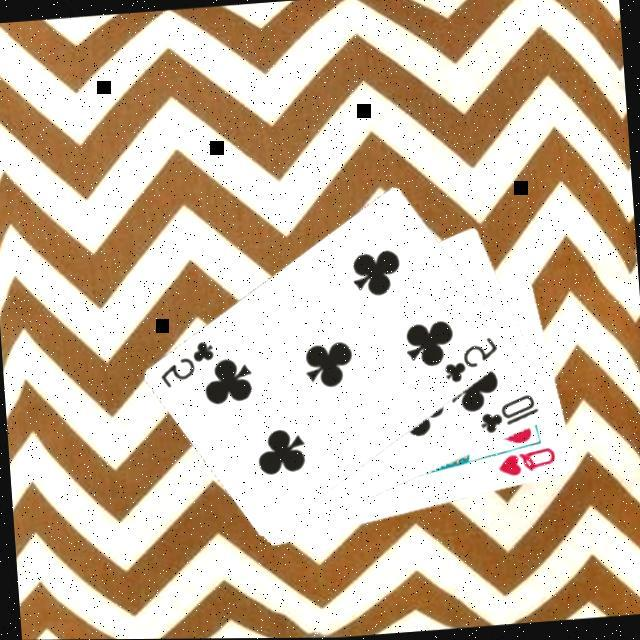10C: (474, 389, 543, 436)
5C: (437, 331, 502, 385), (154, 336, 219, 390)
QH: (493, 442, 558, 478)
